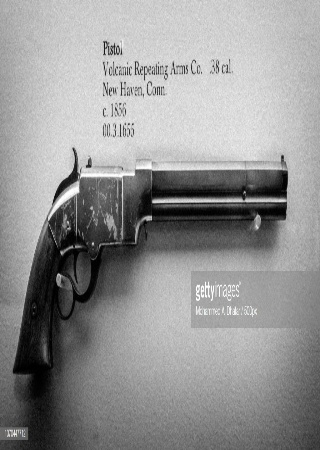handgun: (13, 146, 288, 376)
